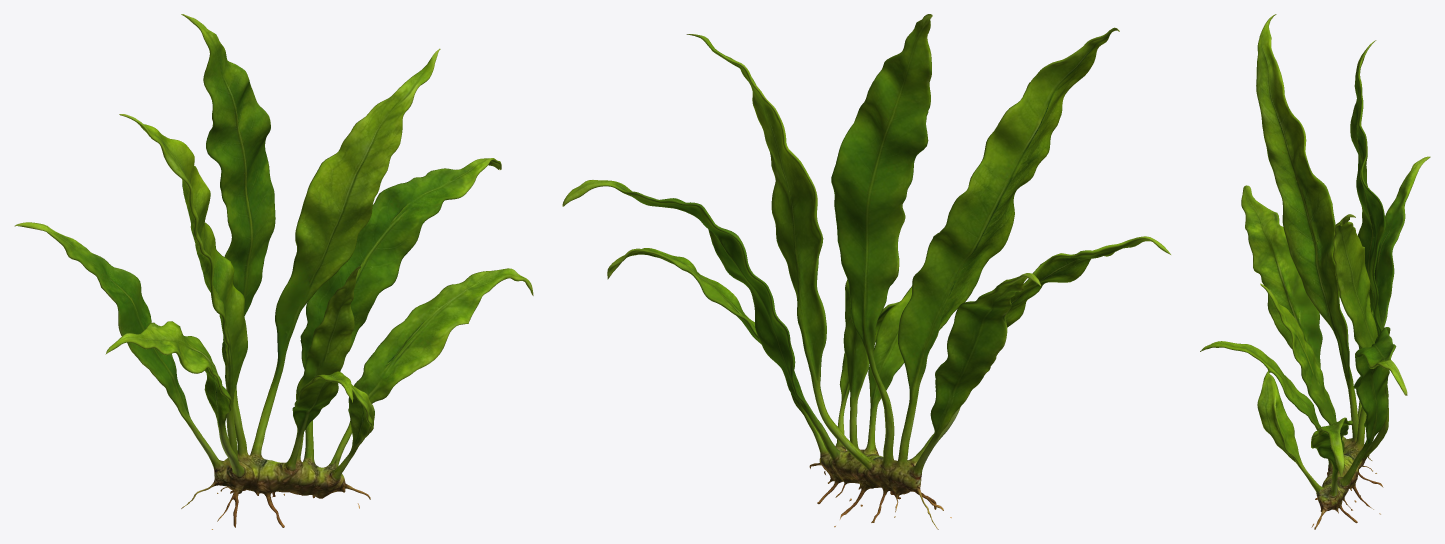
Rendered from green+plant+3d+model.glb.
3 views of the same model, side by side, from view 1: azimuth 30°, elevation 25°; view 2: azimuth 150°, elevation 25°; view 3: azimuth 270°, elevation 25° (orthographic). The views are drawn at different scales.
Visible parts, largest first — view 1: tripo_node_d3871b0b-6713-48c7-9ea4-2aa4558ab52f; view 2: tripo_node_d3871b0b-6713-48c7-9ea4-2aa4558ab52f; view 3: tripo_node_d3871b0b-6713-48c7-9ea4-2aa4558ab52f.
Boxes of the visible parts, x1,y1,x2,y2 form: tripo_node_d3871b0b-6713-48c7-9ea4-2aa4558ab52f: (14,14,533,529); tripo_node_d3871b0b-6713-48c7-9ea4-2aa4558ab52f: (562,14,1170,529); tripo_node_d3871b0b-6713-48c7-9ea4-2aa4558ab52f: (1200,14,1430,529).
Size of the model in its own units: 0.9874 by 0.9833 by 0.4714.
1 material, 1 textured.
